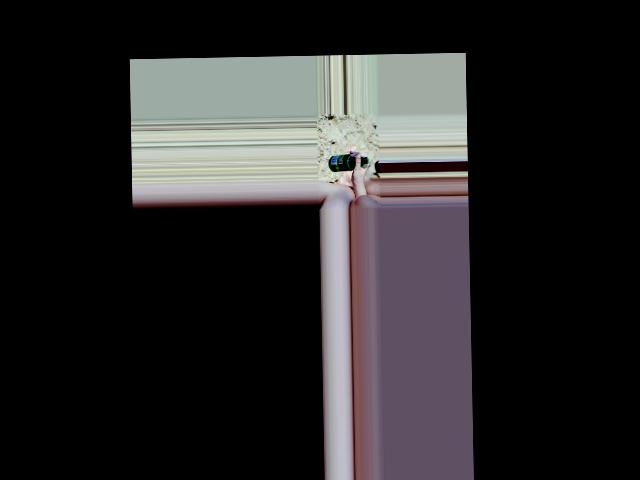beer: (328, 154, 369, 172)
